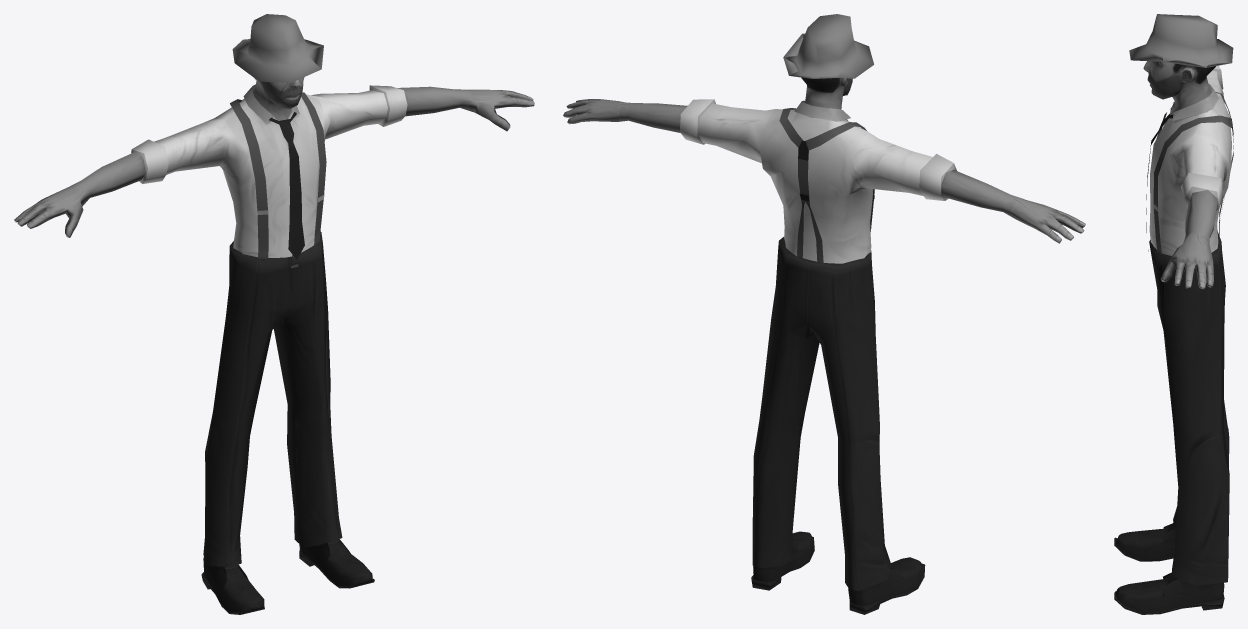
Rendered from Pr_Investigator.obj.
3 views of the same model, side by side, from view 1: azimuth 30°, elevation 25°; view 2: azimuth 150°, elevation 25°; view 3: azimuth 270°, elevation 25° (orthographic).
Visible parts, largest first — view 1: PrivateInvestigator; view 2: PrivateInvestigator; view 3: PrivateInvestigator.
Part boxes in pixels (bbox=[...]): PrivateInvestigator: bbox=[14, 14, 534, 614]; PrivateInvestigator: bbox=[563, 14, 1085, 614]; PrivateInvestigator: bbox=[1114, 14, 1233, 614].
Size of the model in its own units: 22.15 by 23.19 by 4.45.
Materials: 2 (1 with a texture image).
